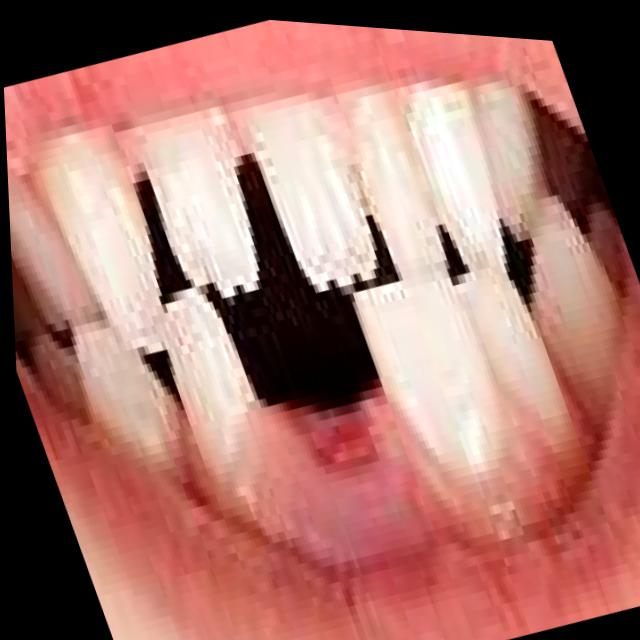hypodontia: (121, 288, 515, 565)
